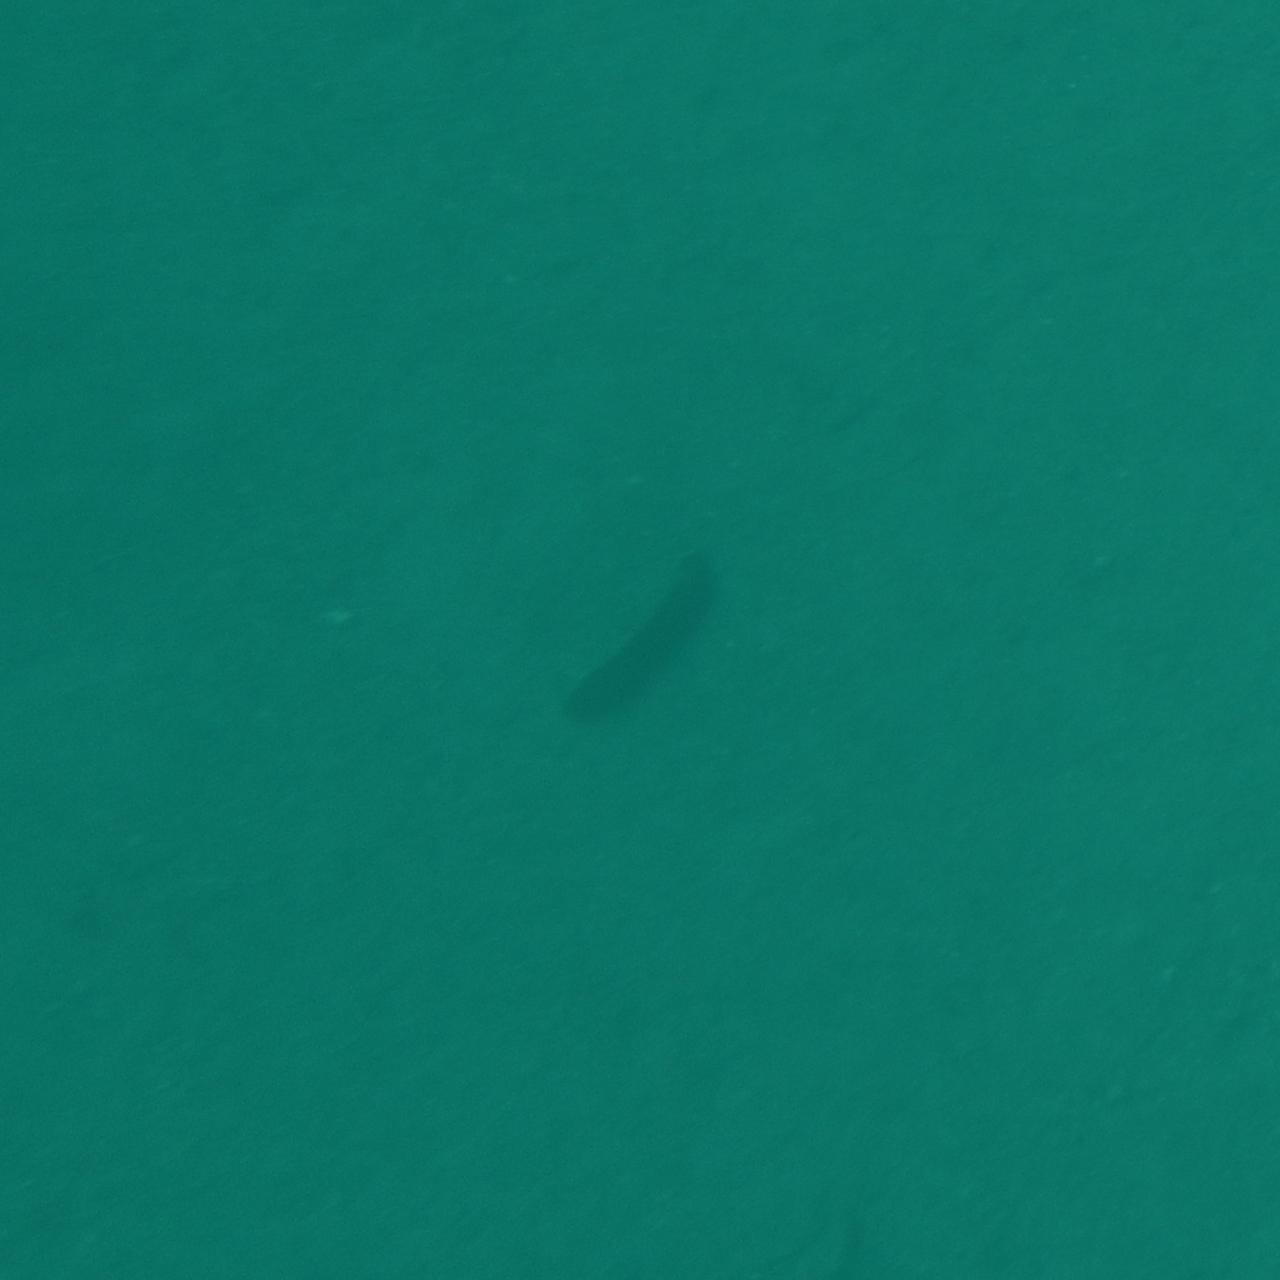Holothuria tubulosa: (546, 540, 734, 740)
